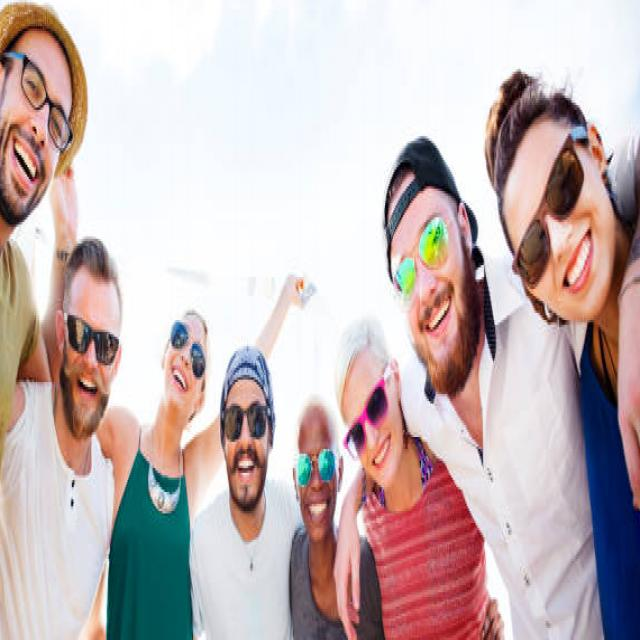Glasses: (510, 121, 589, 304), (11, 49, 75, 158), (394, 206, 457, 313), (344, 362, 392, 464), (62, 308, 120, 369), (167, 317, 208, 381), (292, 443, 339, 495), (222, 397, 272, 444)
